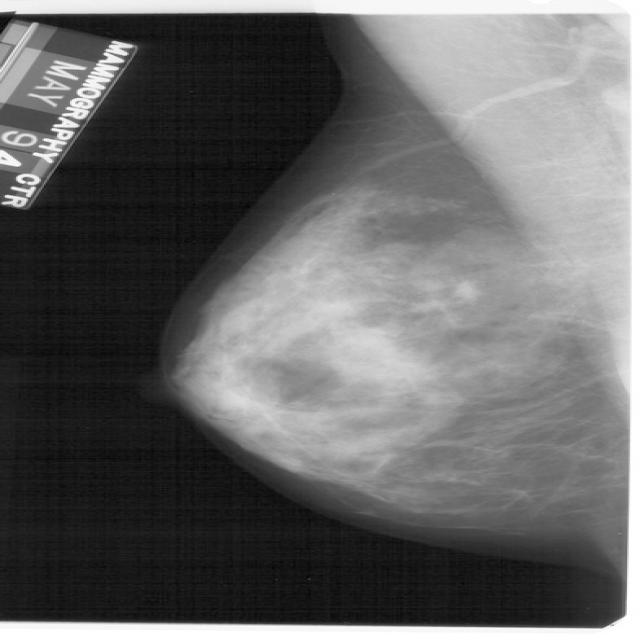tumour: (449, 278, 479, 300)
